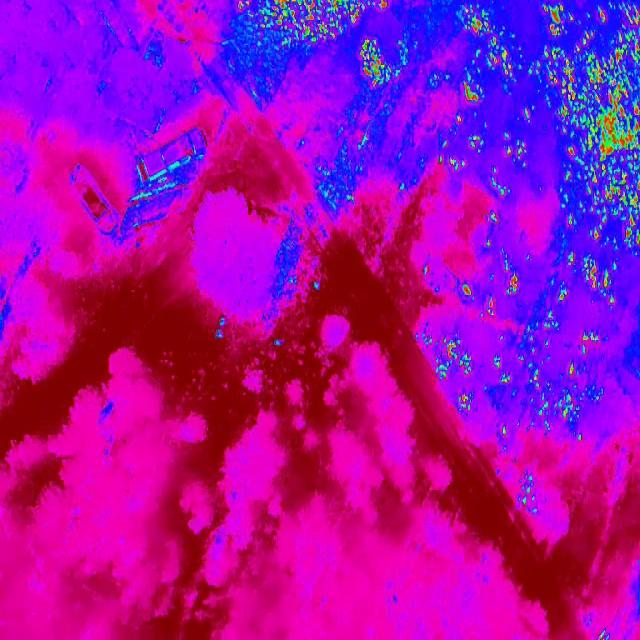fire: (565, 0, 640, 286), (502, 312, 617, 438), (238, 0, 392, 48), (453, 10, 520, 110), (409, 330, 479, 390), (356, 38, 416, 88), (538, 2, 564, 104), (444, 134, 489, 174), (504, 265, 524, 297)
